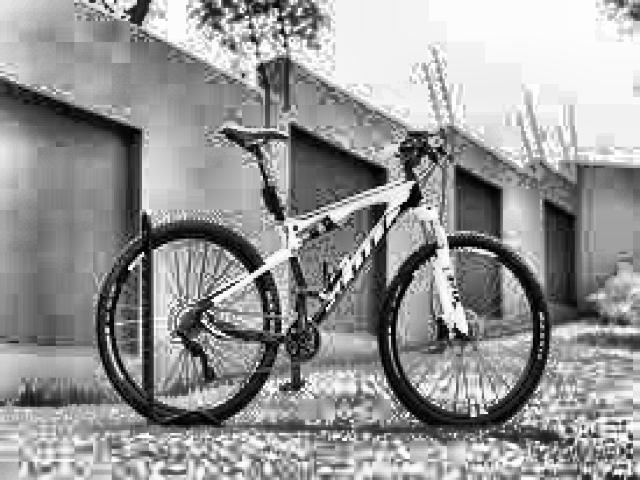cranks_set: (285, 292, 321, 362)
rear_derailleur: (175, 326, 222, 384)
saddle: (220, 120, 291, 150)
wheel: (91, 214, 285, 431), (374, 232, 554, 433)
